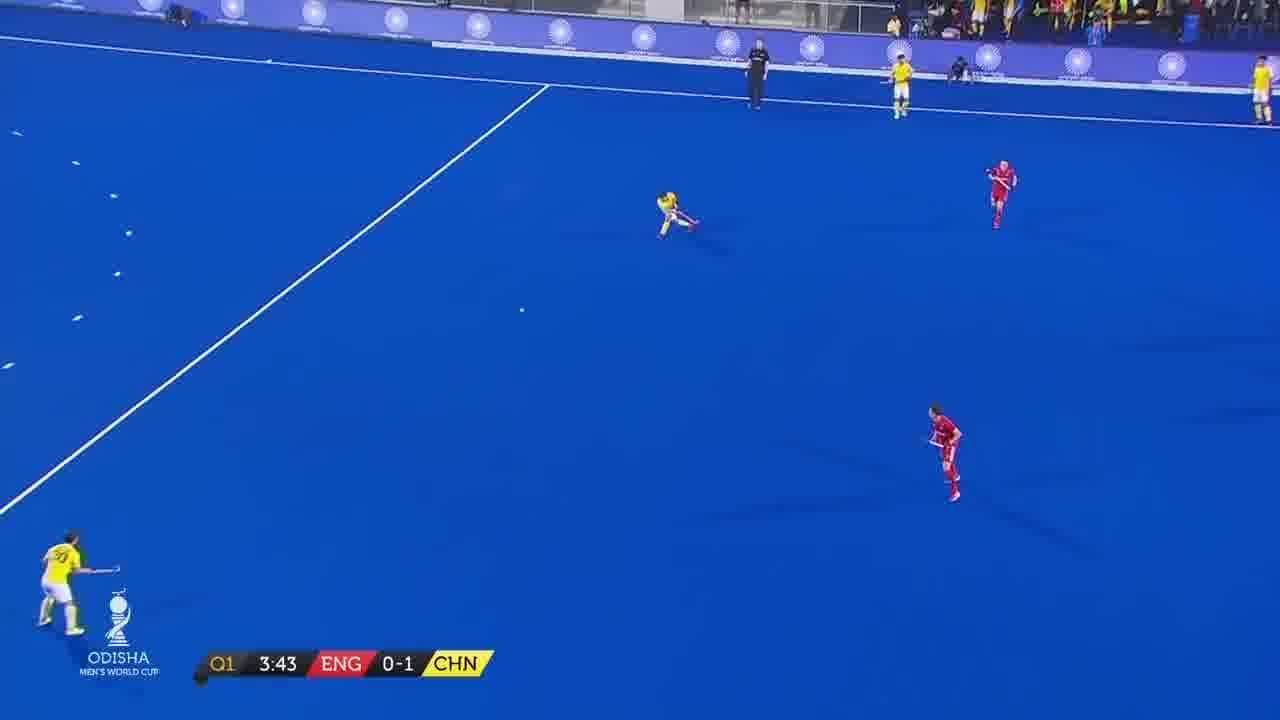ball: (520, 304, 529, 315)
